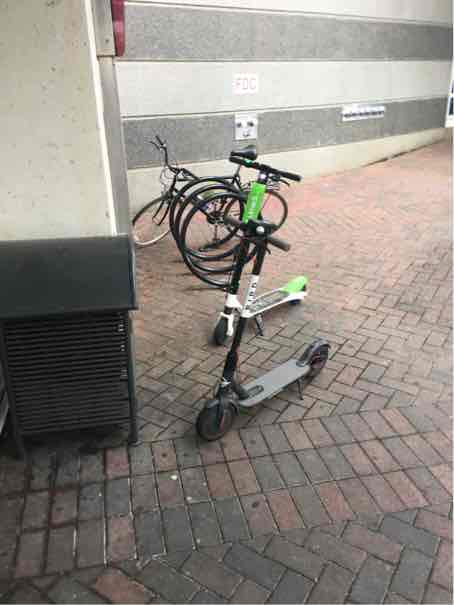scooter: (206, 157, 315, 344)
